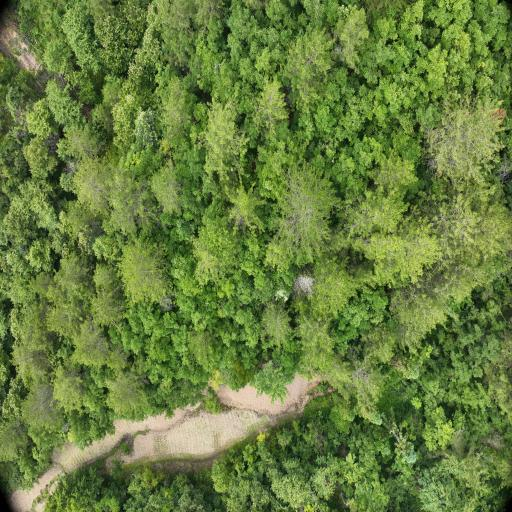dead-tree: (300, 278, 312, 290)
